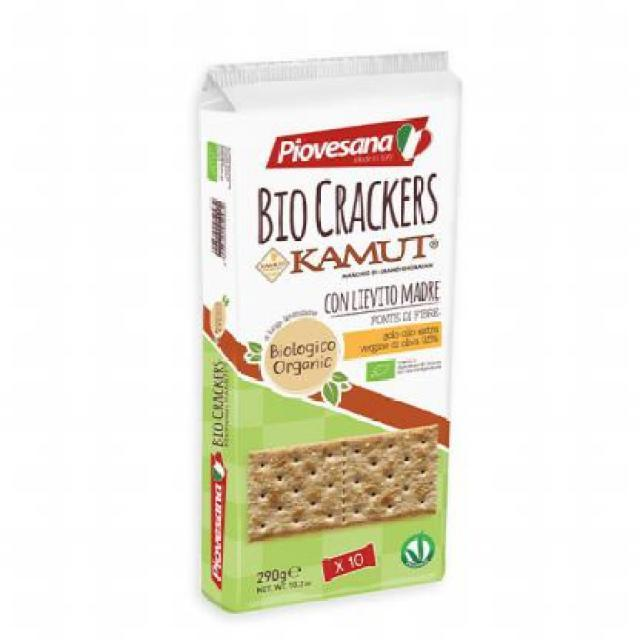Cracker: (198, 49, 456, 616)
